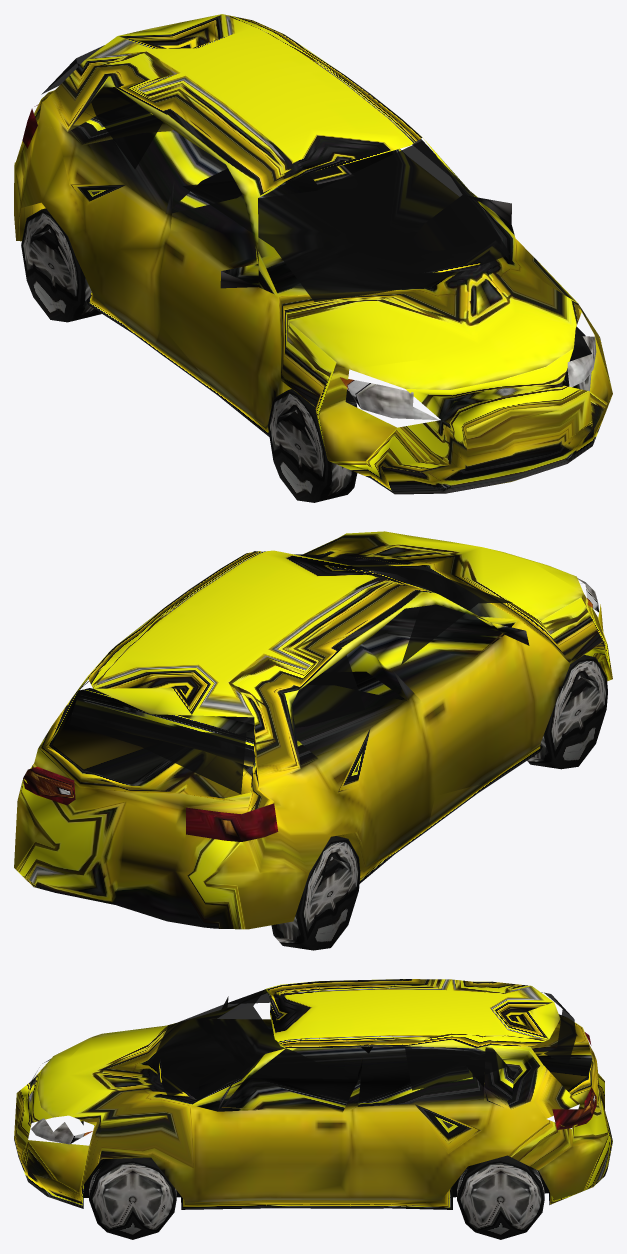
Rendered from hatchback_far.glb.
3 views of the same model, one above another, from view 1: azimuth 30°, elevation 25°; view 2: azimuth 150°, elevation 25°; view 3: azimuth 270°, elevation 25° (orthographic). The views are drawn at different scales.
Parts seen in each view (by area): view 1: body, wheel_fr, wheel_rr; view 2: body, wheel_rr, wheel_fr; view 3: body, wheel_rl, wheel_fl.
Part boxes in pixels (left/top/right/bottom): body: left=14, top=14, right=612, bottom=494; wheel_fr: left=267, top=389, right=357, bottom=502; wheel_rr: left=21, top=208, right=101, bottom=322; body: left=14, top=531, right=612, bottom=929; wheel_rr: left=271, top=836, right=360, bottom=950; wheel_fr: left=527, top=655, right=607, bottom=769; body: left=14, top=979, right=612, bottom=1209; wheel_rl: left=457, top=1155, right=544, bottom=1239; wheel_fl: left=89, top=1157, right=176, bottom=1239.
Bounding box in the file's own units: 1.73 × 1.39 × 4.05.
4 materials, 3 textured.
